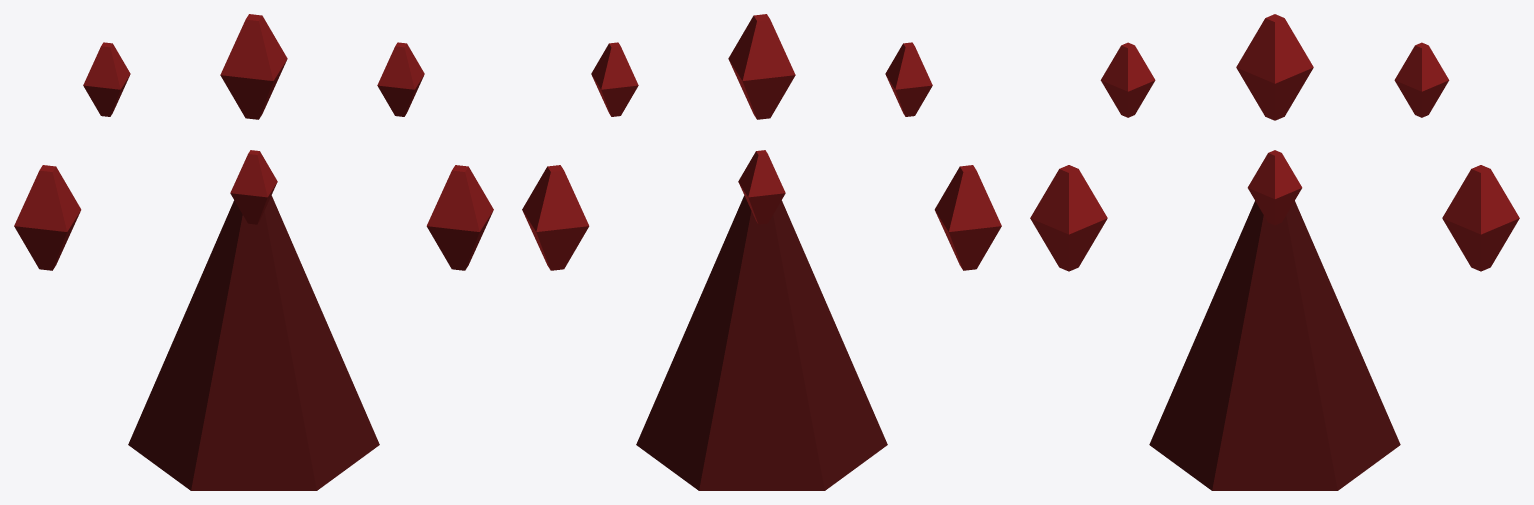
Rendered from vfx_impact_blood.glb.
The picture shows the model from 3 angles, left to right: view 1: azimuth 30°, elevation 25°; view 2: azimuth 150°, elevation 25°; view 3: azimuth 270°, elevation 25°; orthographic projection.
Parts seen in each view (by area): view 1: VFX_Impact_Blood; view 2: VFX_Impact_Blood; view 3: VFX_Impact_Blood.
Part boxes in pixels (left/top/right/bottom): VFX_Impact_Blood: left=14, top=14, right=493, bottom=490; VFX_Impact_Blood: left=522, top=14, right=1001, bottom=490; VFX_Impact_Blood: left=1030, top=14, right=1519, bottom=490.
Bounding box in the file's own units: 0.2072 × 0.1755 × 0.2142.
